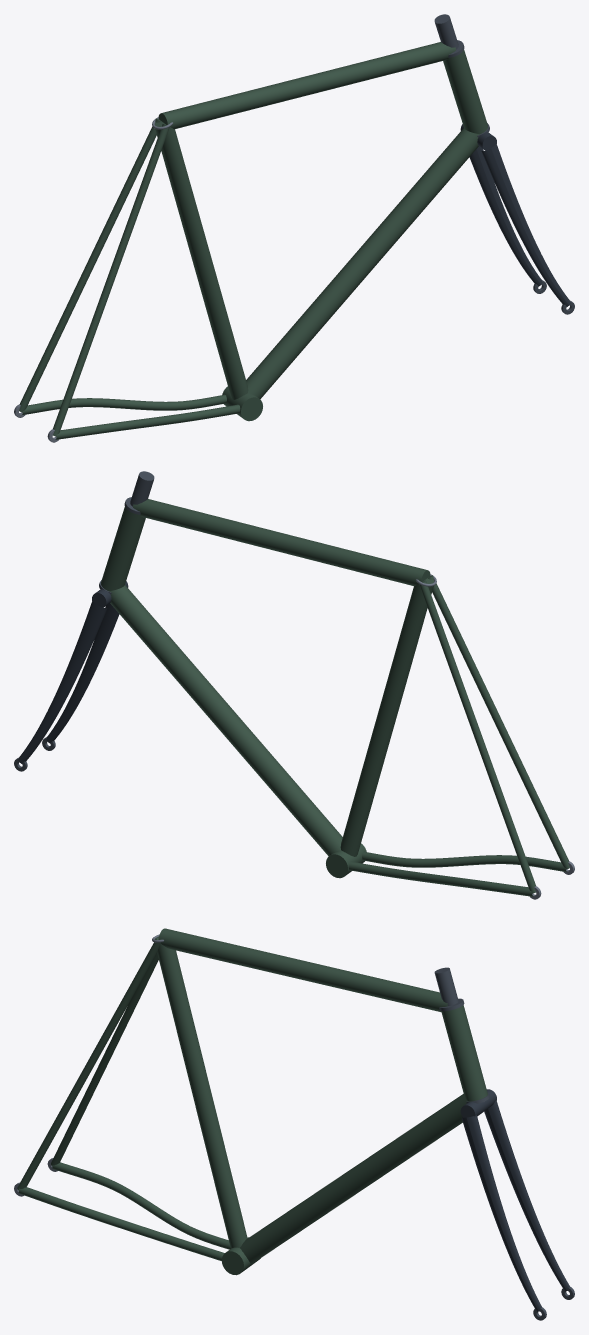
The model's file is skream-ranger-xl.glb.
3 views of the same model, one above another, from view 1: azimuth 30°, elevation 25°; view 2: azimuth 150°, elevation 25°; view 3: azimuth 330°, elevation 25° (orthographic).
Parts seen in each view (by area): view 1: paint_down, paint_top, paint_seat, paint_seatstay_1, paint_seatstay_-1, fork_blade_1, paint_head, paint_chainstay_-1, fork_blade_-1, paint_chainstay_1, paint_bottom_bracket, fork_steerer; view 2: paint_down, paint_top, paint_seat, paint_seatstay_-1, paint_seatstay_1, fork_blade_-1, paint_head, paint_chainstay_1, fork_blade_1, paint_chainstay_-1, paint_bottom_bracket, fork_steerer; view 3: paint_down, paint_seat, paint_top, fork_blade_1, paint_seatstay_1, fork_blade_-1, paint_head, paint_chainstay_1, paint_seatstay_-1, paint_chainstay_-1, fork_steerer, paint_bottom_bracket.
Part boxes in pixels (x1,y1,x2,y2): paint_down: (246,128,479,399); paint_top: (158,42,455,128); paint_seat: (154,121,248,399); paint_seatstay_1: (53,123,169,436); paint_seatstay_-1: (19,118,160,412); fork_blade_1: (481,144,570,306); paint_head: (443,50,487,134); paint_chainstay_-1: (22,394,226,414); fork_blade_-1: (469,146,542,286); paint_chainstay_1: (55,404,240,439); paint_bottom_bracket: (222,386,262,421); fork_steerer: (434,14,458,49); paint_down: (109,585,342,856); paint_top: (133,499,430,585); paint_seat: (340,578,434,856); paint_seatstay_-1: (419,580,535,893); paint_seatstay_1: (428,575,569,869); fork_blade_-1: (18,601,107,763); paint_head: (101,507,145,591); paint_chainstay_1: (362,851,566,871); fork_blade_1: (46,603,119,743); paint_chainstay_-1: (348,861,533,896); paint_bottom_bracket: (326,843,366,878); fork_steerer: (130,471,154,506); paint_down: (240,1094,468,1263); paint_seat: (155,936,247,1248); paint_top: (158,928,447,1012); fork_blade_1: (461,1115,542,1311); paint_seatstay_1: (17,937,160,1189); fork_blade_-1: (484,1100,570,1291); paint_head: (441,1005,487,1101); paint_chainstay_1: (18,1187,224,1260); paint_seatstay_-1: (51,953,158,1165); paint_chainstay_-1: (52,1162,230,1249); fork_steerer: (434,967,484,1102); paint_bottom_bracket: (221,1237,260,1275).
Bounding box in the file's own units: 1.09 × 0.6843 × 0.1395.
